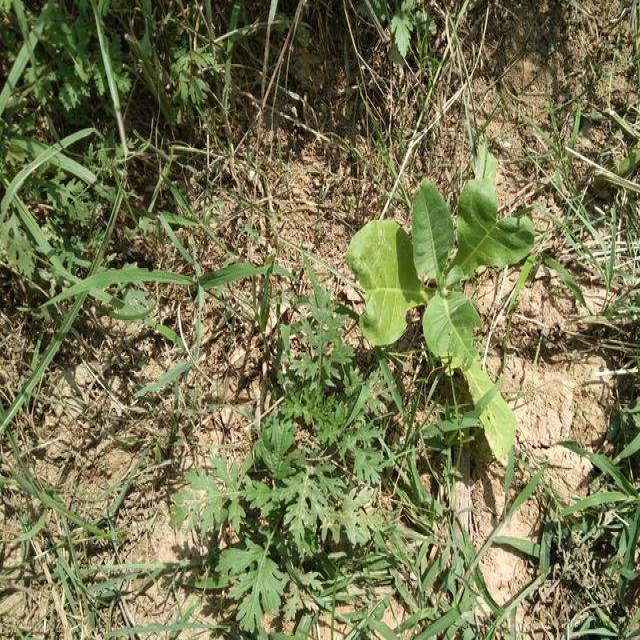crop: (353, 156, 512, 452)
